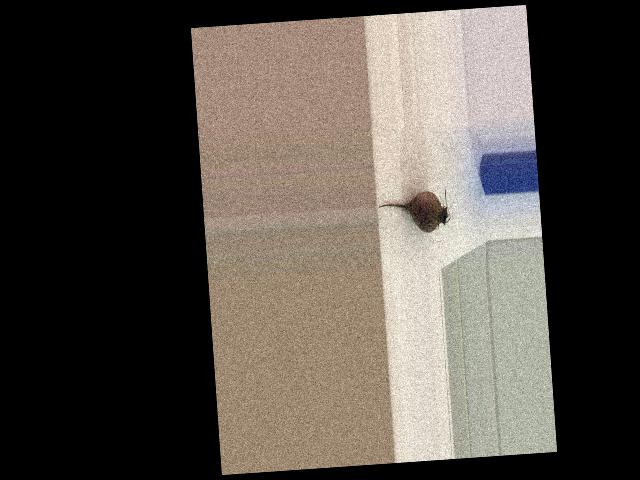beet: (377, 186, 451, 235)
